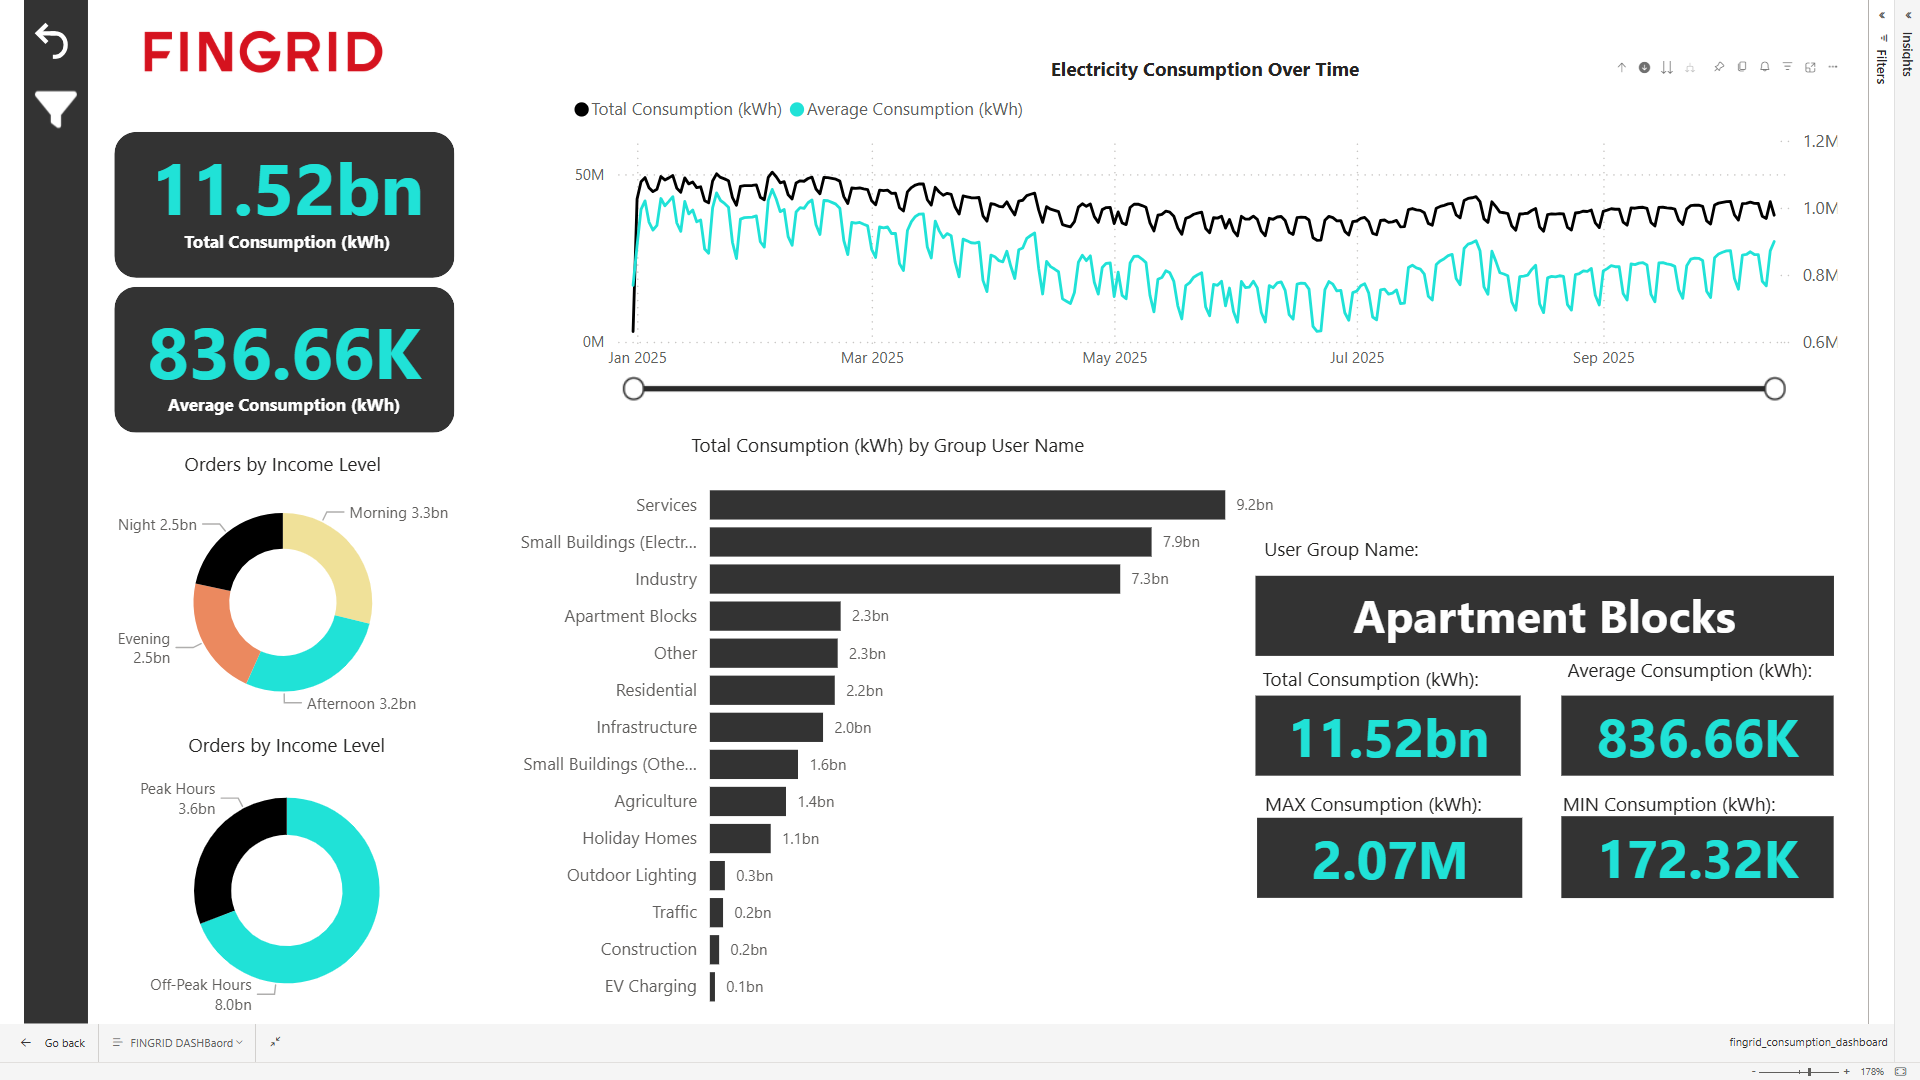

What the dashboard file says about the page in this screenshot:
{"tool":"powerbi","page":{"name":"FINGRID DASHBaord","canvas":[1280,720],"ordinal":0},"visuals":[{"type":"clusteredBarChart","title":"Total Consumption (kWh) by Group User Name","fields":{"Y":[" Measures.Total Consumption (kWh)"],"Category":["dim_usergroup.user_group_name"]},"box":[331.2,303.8,552.5,416.2],"z":0},{"type":"donutChart","title":"Orders by Income Level","fields":{"Category":["dim_hour.peak_description"],"Y":["Sum(fact_consumption.total_consumption_kwh)"]},"box":[51.2,515,267.5,205],"z":1000},{"type":"shape","box":[63.8,92.5,239.5,102.8],"z":2000,"group":"g1"},{"type":"donutChart","title":"Orders by Income Level","fields":{"Category":["dim_hour.period_of_day"],"Y":[" Measures.Total Consumption (kWh)"]},"box":[42.5,317.5,278.8,195],"z":2000},{"type":"lineChart","title":"Electricity Consumption Over Time","fields":{"Y":[" Measures.Total Consumption (kWh)"],"Category":["dim_date.year Hierarchy.year","dim_date.year Hierarchy.quarter","dim_date.year Hierarchy.month_name","dim_date.year Hierarchy.date","dim_date.year Hierarchy.day_of_month"],"Y2":[" Measures.Average Consumption (kWh)"]},"box":[381.2,40,898.8,245],"z":3000},{"type":"shape","box":[63.8,201.4,239.5,102.8],"z":3000,"group":"g1"},{"type":"group","id":"g1","title":"Group 2","box":[63.8,92.5,240,211.2],"z":5000},{"type":"group","id":"g2","title":"Group 1","box":[55,62.5,257.5,265],"z":6000},{"type":"card","fields":{"Values":[" Measures.Average Consumption (kWh)"]},"box":[55,177.5,255.9,149.9],"z":6000,"group":"g2"},{"type":"image","box":[75,10,186.2,52.5],"z":7000},{"type":"card","fields":{"Values":["Min(dim_usergroup.user_group_name)"]},"box":[866.2,405,406.9,56.6],"z":7000,"group":"g4"},{"type":"card","fields":{"Values":[" Measures.Total Consumption (kWh)"]},"box":[57.3,62.5,255.9,149.9],"z":8000,"group":"g2"},{"type":"group","id":"g3","title":"Group 4","box":[866.2,372.6,401.2,258.8],"z":8000},{"type":"card","fields":{"Values":[" Measures.Total Consumption (kWh)"]},"box":[866.2,489.2,187.2,56.6],"z":8000,"group":"g4"},{"type":"shape","title":"Left Nav Background","box":[0,0,45,720],"z":9000},{"type":"card","fields":{"Values":[" Measures.Average Consumption (kWh)"]},"box":[1081.3,489.2,191.8,56.6],"z":9000,"group":"g4"},{"type":"actionButton","box":[2.5,10,35,36.2],"z":10000},{"type":"textbox","box":[866.2,464.4,187.2,32.9],"z":10000,"group":"g4"},{"type":"actionButton","box":[3.8,57.5,37.5,40],"z":11000},{"type":"textbox","box":[1080.8,457.4,185.9,31.1],"z":11000,"group":"g3"},{"type":"textbox","box":[867.2,372.6,187,32.3],"z":12000,"group":"g4"},{"type":"card","fields":{"Values":[" Measures.Max Consumption (kWh)"]},"box":[867.2,575.4,187.2,56.5],"z":13000,"group":"g4"},{"type":"card","fields":{"Values":[" Measures.Min Consumption (kWh)"]},"box":[1081.6,574.5,191.4,57.4],"z":14000,"group":"g4"},{"type":"textbox","box":[867.7,551.6,187.2,32.9],"z":15000,"group":"g4"},{"type":"textbox","box":[1077.3,551.6,187.2,32.9],"z":16000,"group":"g4"},{"type":"group","id":"g4","title":"Group 3","box":[866.2,372.6,400.2,259.3],"z":17001,"group":"g3"}]}

Visuals, with their boxes on the page's 1280x720 design canvas (x1, y1, x2, y2). These are canvas units, not pixel positions in the 1920x1080 screenshot, which may show the page scaled, cropped or inside an application window:
"Total Consumption (kWh) by Group User Name" clusteredBarChart: pyautogui.locateOnScreen(331, 304, 884, 720)
"Orders by Income Level" donutChart: pyautogui.locateOnScreen(51, 515, 319, 720)
shape: pyautogui.locateOnScreen(64, 92, 303, 195)
"Orders by Income Level" donutChart: pyautogui.locateOnScreen(42, 318, 321, 512)
"Electricity Consumption Over Time" lineChart: pyautogui.locateOnScreen(381, 40, 1280, 285)
shape: pyautogui.locateOnScreen(64, 201, 303, 304)
"Group 2" group: pyautogui.locateOnScreen(64, 92, 304, 304)
"Group 1" group: pyautogui.locateOnScreen(55, 62, 312, 328)
card -  Measures.Average Consumption (kWh): pyautogui.locateOnScreen(55, 178, 311, 327)
image: pyautogui.locateOnScreen(75, 10, 261, 62)
card - Min(dim_usergroup.user_group_name): pyautogui.locateOnScreen(866, 405, 1273, 462)
card -  Measures.Total Consumption (kWh): pyautogui.locateOnScreen(57, 62, 313, 212)
"Group 4" group: pyautogui.locateOnScreen(866, 373, 1267, 631)
card -  Measures.Total Consumption (kWh): pyautogui.locateOnScreen(866, 489, 1053, 546)
"Left Nav Background" shape: pyautogui.locateOnScreen(0, 0, 45, 720)
card -  Measures.Average Consumption (kWh): pyautogui.locateOnScreen(1081, 489, 1273, 546)
actionButton: pyautogui.locateOnScreen(2, 10, 38, 46)
textbox: pyautogui.locateOnScreen(866, 464, 1053, 497)
actionButton: pyautogui.locateOnScreen(4, 58, 41, 98)
textbox: pyautogui.locateOnScreen(1081, 457, 1267, 488)
textbox: pyautogui.locateOnScreen(867, 373, 1054, 405)
card -  Measures.Max Consumption (kWh): pyautogui.locateOnScreen(867, 575, 1054, 632)
card -  Measures.Min Consumption (kWh): pyautogui.locateOnScreen(1082, 574, 1273, 632)
textbox: pyautogui.locateOnScreen(868, 552, 1055, 584)
textbox: pyautogui.locateOnScreen(1077, 552, 1264, 584)
"Group 3" group: pyautogui.locateOnScreen(866, 373, 1266, 632)
